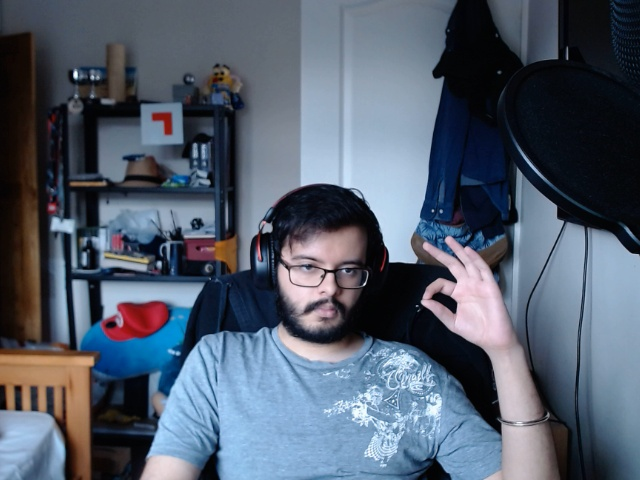Okay: (412, 228, 530, 353)
